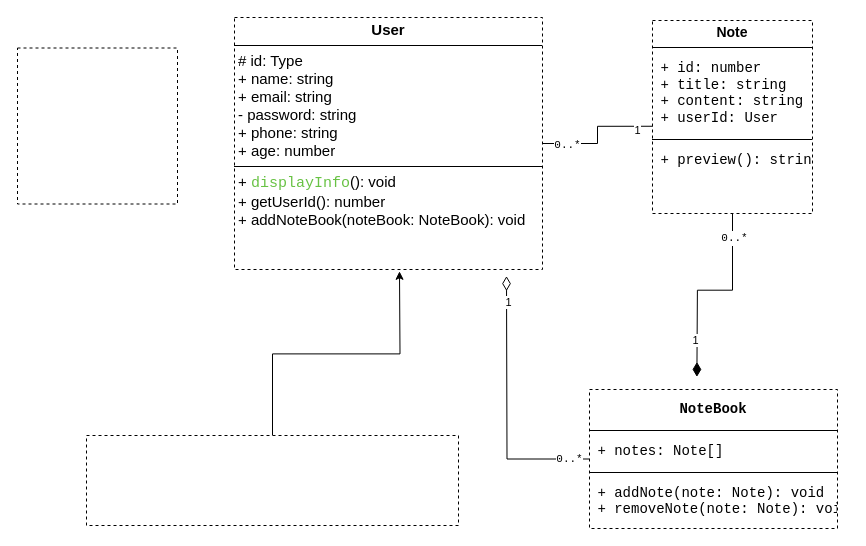
The diagram is 866 pixels wide and 546 high, and some of its shapes have lost their labels. The box of each missing label's shape, as (x1, y1, x2, y2) in pixels:
Admin + addNoteToNotebook(note: Note, noteBook: NoteBook): (86, 434, 458, 526)
Storage<T> - items: T[] + add(item: T) + remove(item: T) + getAll(): T[]: (16, 47, 178, 204)
